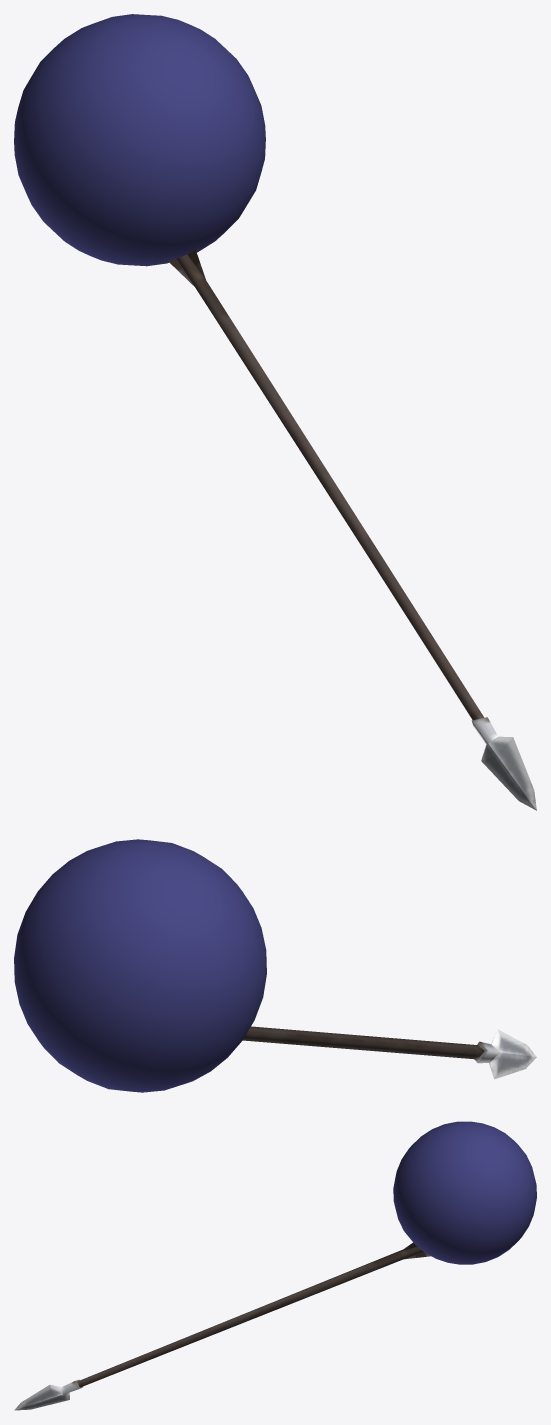
File: Bullet.fbx
The picture shows the model from 3 angles, top to bottom: view 1: azimuth 30°, elevation 25°; view 2: azimuth 150°, elevation 25°; view 3: azimuth 270°, elevation 25°; orthographic projection. The views are drawn at different scales.
Visible parts, largest first — view 1: Ball, Arrow; view 2: Ball, Arrow; view 3: Ball, Arrow.
Part boxes in pixels (x1,y1,x2,y2): Ball: [14, 14, 265, 266]; Arrow: [168, 249, 536, 810]; Ball: [14, 839, 266, 1092]; Arrow: [243, 1026, 536, 1079]; Ball: [393, 1121, 536, 1264]; Arrow: [14, 1242, 430, 1410].
Size of the model in its own units: 0.1 by 0.2159 by 0.3625.
Materials: 2 (1 with a texture image).
